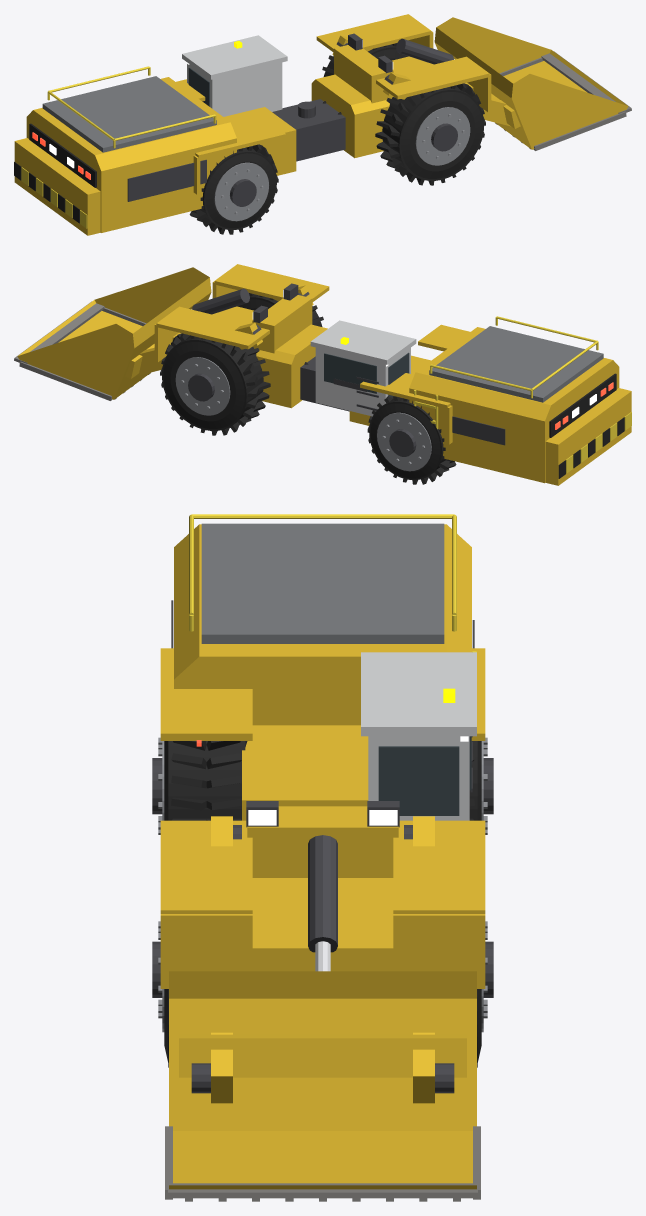
File: MC_LHD_18t.glb
The picture shows the model from 3 angles, top to bottom: view 1: azimuth 30°, elevation 25°; view 2: azimuth 150°, elevation 25°; view 3: azimuth 270°, elevation 25°; orthographic projection. The views are drawn at different scales.
Visible parts, largest first — view 1: LHD_RearFrame, LHD_FrontFrame, LHD_Bucket, LHD_Wheel_FR, LHD_Wheel_RR, LHD_Boom, LHD_Wheel_FL; view 2: LHD_RearFrame, LHD_Bucket, LHD_FrontFrame, LHD_Wheel_FL, LHD_Wheel_RL, LHD_Boom, LHD_Wheel_FR; view 3: LHD_RearFrame, LHD_Bucket, LHD_FrontFrame, LHD_Boom, LHD_Wheel_RR, LHD_Wheel_RL, LHD_Wheel_FL, LHD_Wheel_FR.
Boxes of the visible parts, box(x1,y1,x2,y2) form: LHD_RearFrame: box(14, 35, 325, 235); LHD_FrontFrame: box(310, 14, 491, 158); LHD_Bucket: box(434, 17, 631, 150); LHD_Wheel_FR: box(375, 83, 485, 185); LHD_Wheel_RR: box(189, 144, 278, 234); LHD_Boom: box(332, 35, 510, 126); LHD_Wheel_FL: box(322, 43, 408, 76); LHD_RearFrame: box(310, 316, 631, 485); LHD_Bucket: box(14, 267, 211, 400); LHD_FrontFrame: box(154, 264, 329, 408); LHD_Wheel_FL: box(160, 333, 270, 435); LHD_Wheel_RL: box(367, 396, 456, 484); LHD_Boom: box(135, 285, 313, 376); LHD_Wheel_FR: box(237, 293, 323, 326); LHD_RearFrame: box(160, 514, 485, 820); LHD_Bucket: box(165, 971, 480, 1201); LHD_FrontFrame: box(160, 801, 485, 988); LHD_Boom: box(211, 816, 434, 1103); LHD_Wheel_RR: box(152, 737, 247, 834); LHD_Wheel_RL: box(469, 737, 493, 834); LHD_Wheel_FL: box(477, 921, 493, 1067); LHD_Wheel_FR: box(152, 921, 168, 1067).
Bounding box in the file's own units: 12.4 × 2.7 × 3.38.
